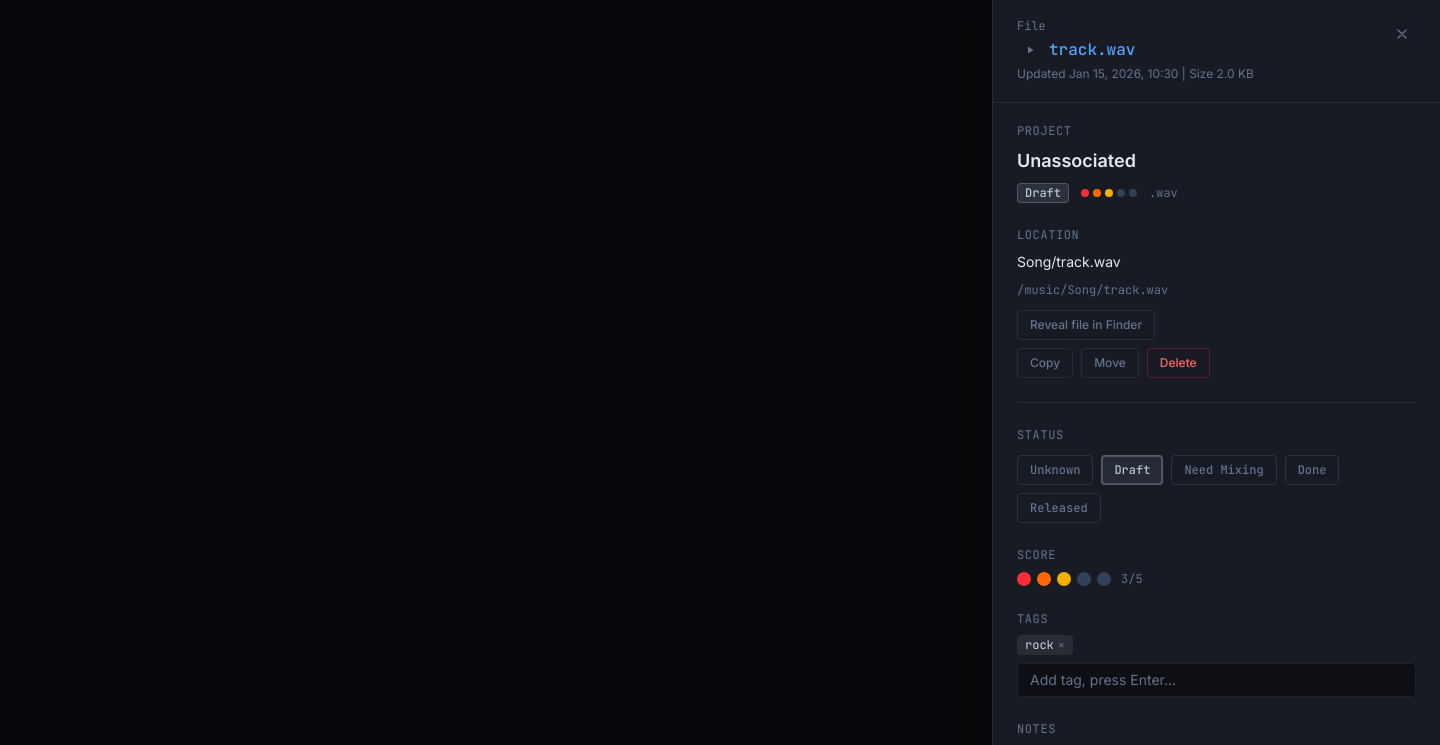
Scenario: FileDetailPanel - Saving… indicator › shows a 'Saving…' indicator while a status save is in flight
expect the text "Saving…" is not shown: met
Click the button "Done": [1312, 470] box [1285, 455, 1339, 485]
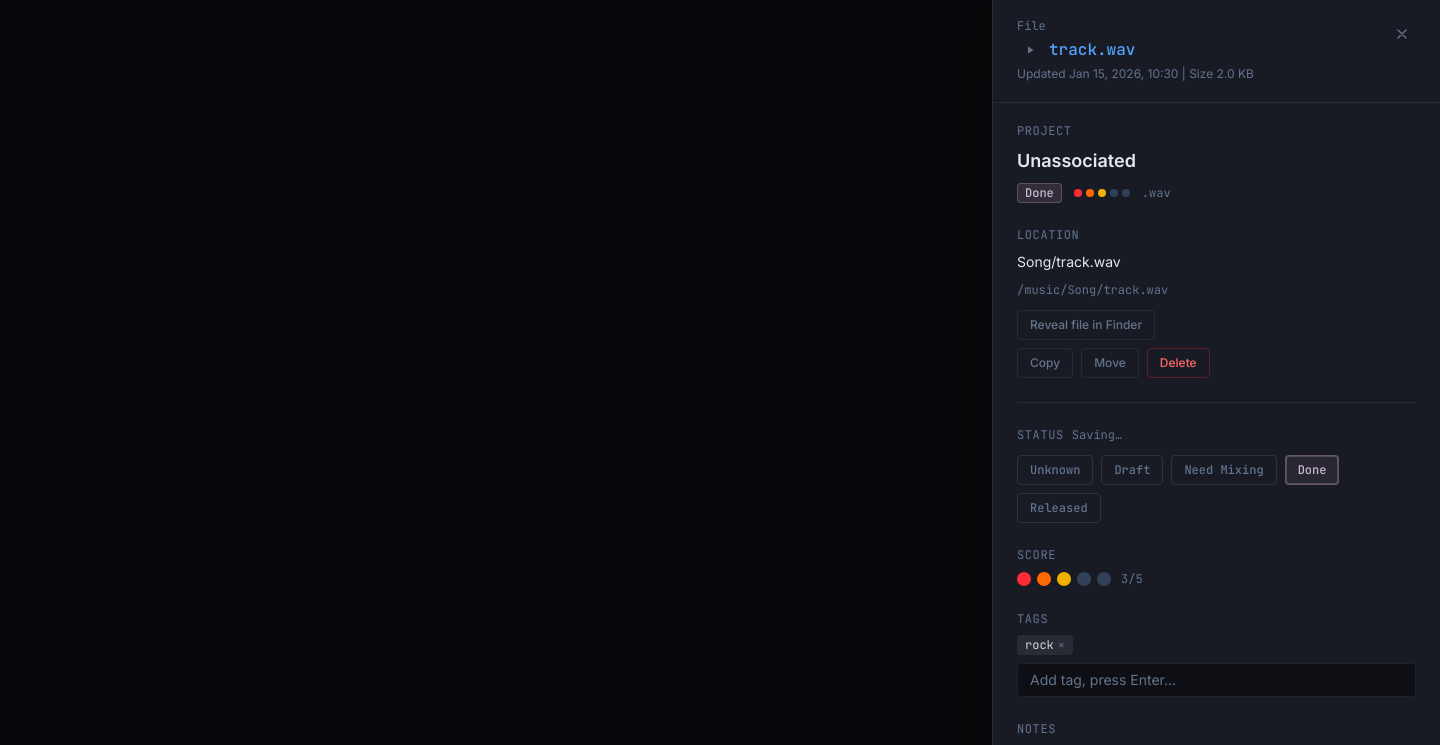
expect the text "Saving…" is shown: met, box [1072, 427, 1122, 443]
